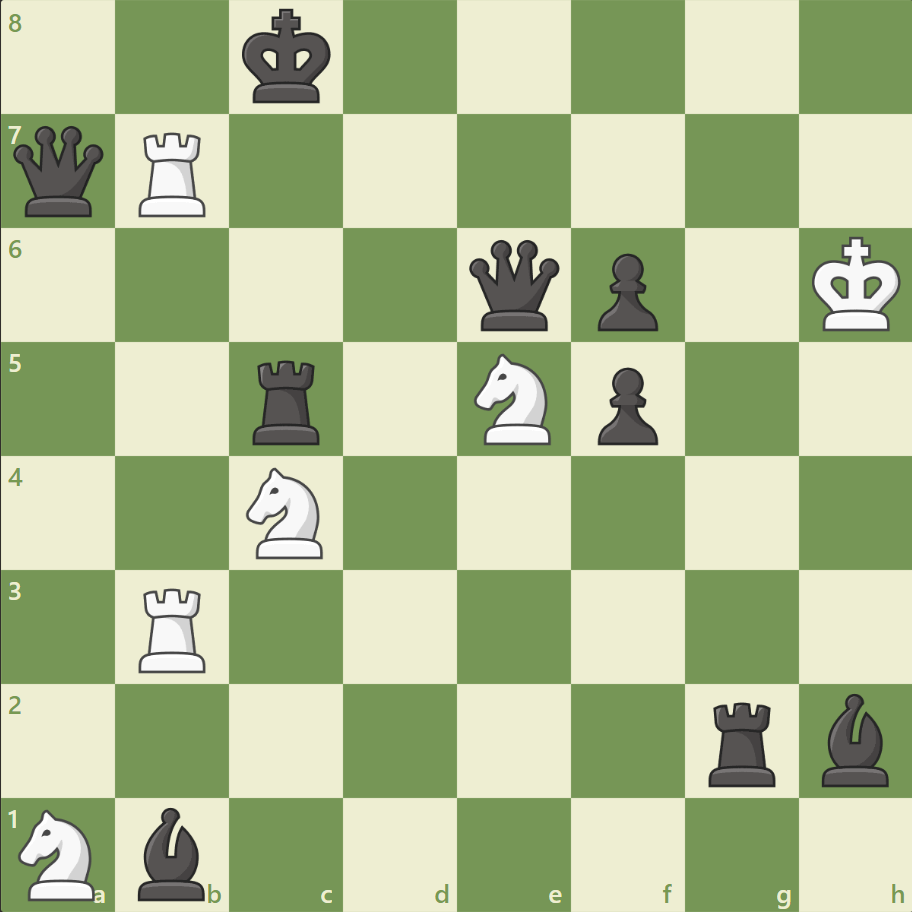K: (806, 231, 906, 339)
N: (238, 461, 335, 564), (465, 348, 562, 450), (11, 802, 108, 904)
R: (133, 125, 215, 222), (133, 579, 215, 676)
b: (812, 687, 896, 790), (131, 801, 215, 904)
k: (238, 4, 338, 112)
p: (588, 246, 662, 337), (588, 359, 662, 450)
q: (10, 122, 109, 222), (464, 236, 563, 335)
r: (246, 352, 329, 449), (700, 693, 783, 790)
